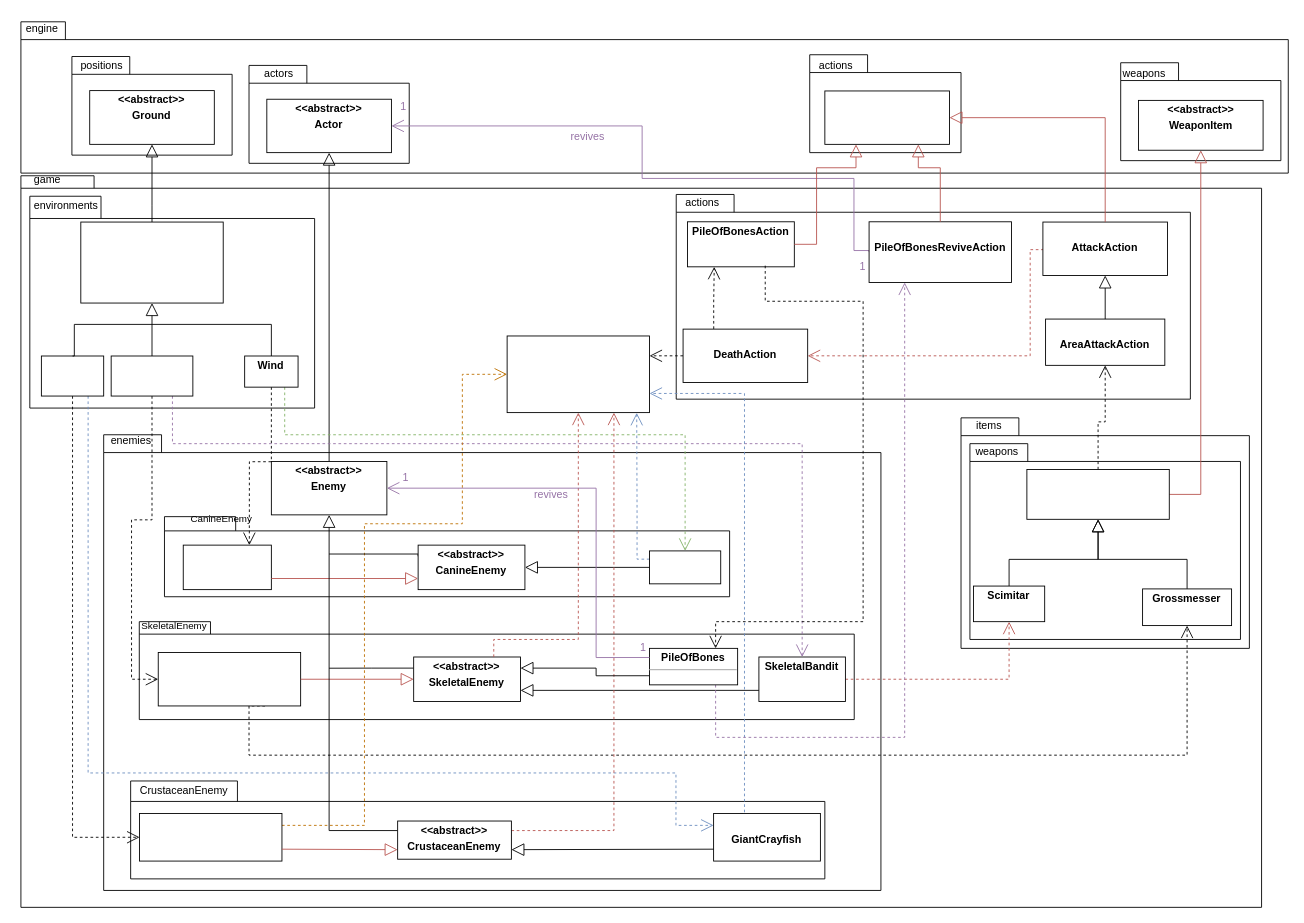
Image size: 1304x923. Some labels were removed from this diagram. The box of each missing label's shape, as (x1, y1, x2, y2) in pixels:
<<abstract>> Action: (824, 90, 949, 144)
<<abstract>> CurvedSword: (1026, 469, 1169, 519)
<<abstract>> SpawningGround: (80, 221, 223, 303)
<<enumeration>> Status: (506, 335, 650, 413)
GiantCrab: (139, 813, 282, 861)
GiantDog: (649, 550, 721, 584)
Graveyard: (110, 355, 193, 396)
HeavySkeletalSwordsman: (157, 652, 301, 706)
LoneWolf: (182, 544, 271, 590)
Water: (40, 355, 104, 396)
